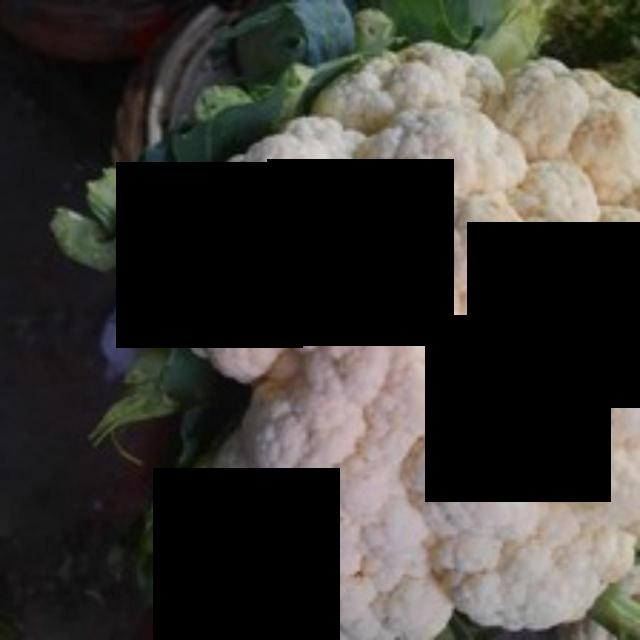cauliflower: (148, 31, 637, 637)
